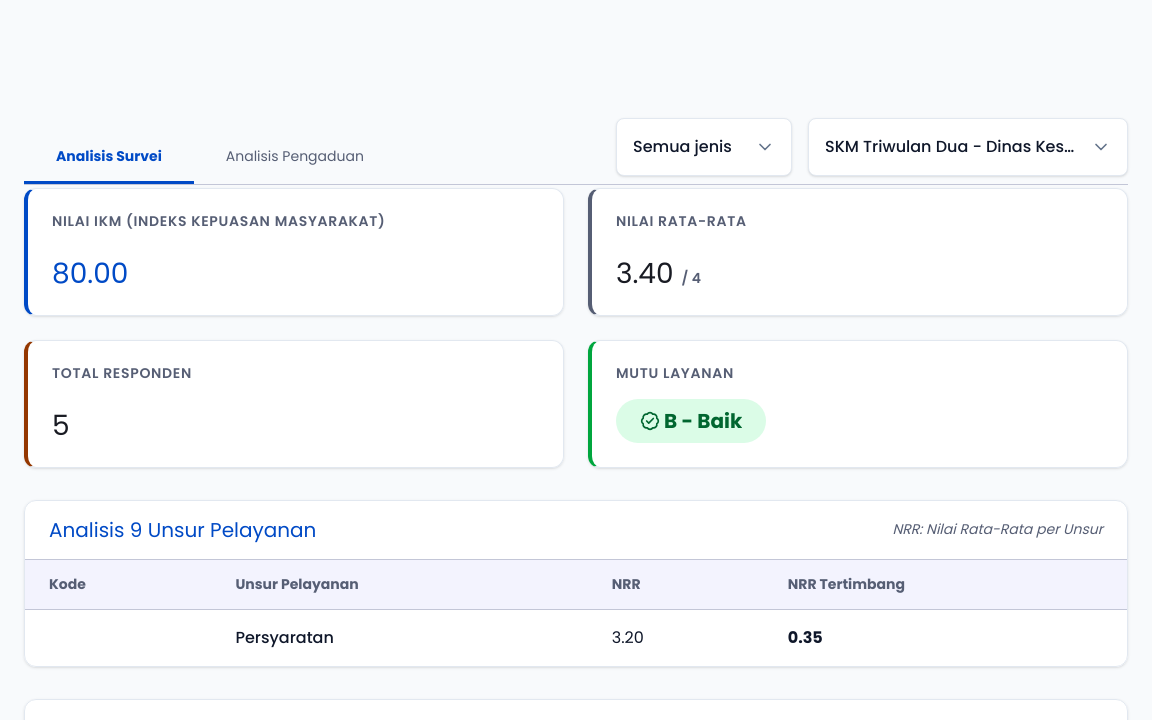
Test: Statistik Admin Kab — penyaring jenis survei › bawaan "Semua jenis": survei SKM, custom, dan yang tanpa jenis (backend lama) ada semua
The width and height of the screenshot is (1152, 720).
Expected: the button named "jenis survei" reads "Semua jenis", [616,118,792,176]
Click the button named "survei". click: x=968, y=147
box: [808,118,1128,176]
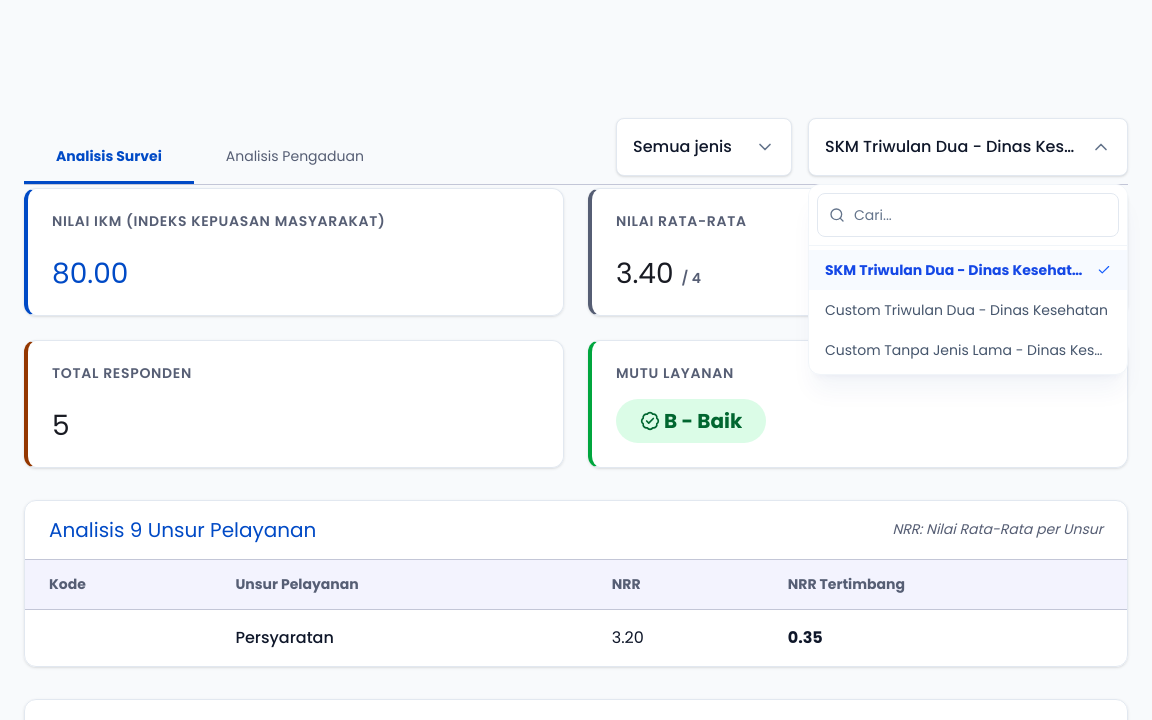
Expected: the 2nd button "SKM Triwulan Dua - Dinas Kesehatan" is shown, [809,250,1127,290]
Expected: the button "Custom Triwulan Dua - Dinas Kesehatan" is shown, [809,290,1127,330]
Expected: the button "Custom Tanpa Jenis Lama - Dinas Kesehatan" is shown, [809,330,1127,370]
